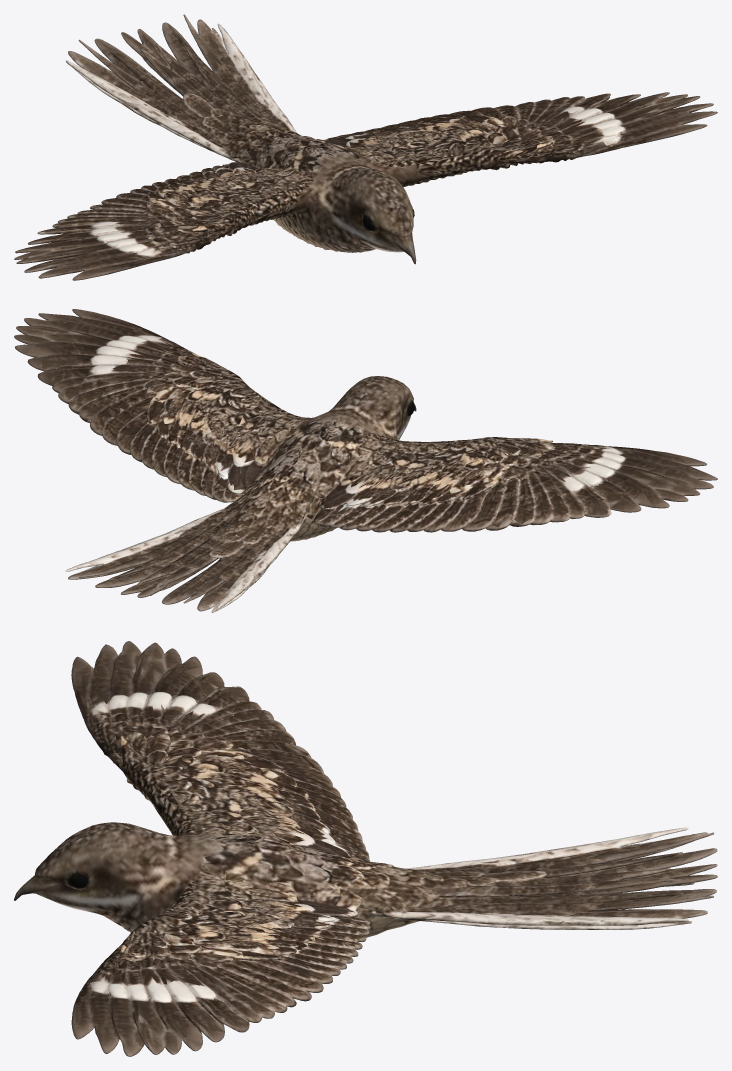
File: Caprimulgus_climacurus.glb
3 renders of one model, top to bottom at view 1: azimuth 30°, elevation 25°; view 2: azimuth 150°, elevation 25°; view 3: azimuth 270°, elevation 25°, orthographic. The views are drawn at different scales.
Visible parts, largest first — view 1: orient; view 2: orient; view 3: orient.
Part boxes in pixels (<box>): orient: <box>14,14,717,280</box>; orient: <box>14,309,717,612</box>; orient: <box>14,641,717,1056</box>.
Bounding box in the file's own units: 0.4999 × 0.0684 × 0.3588.
Materials: 1 (1 with a texture image).
